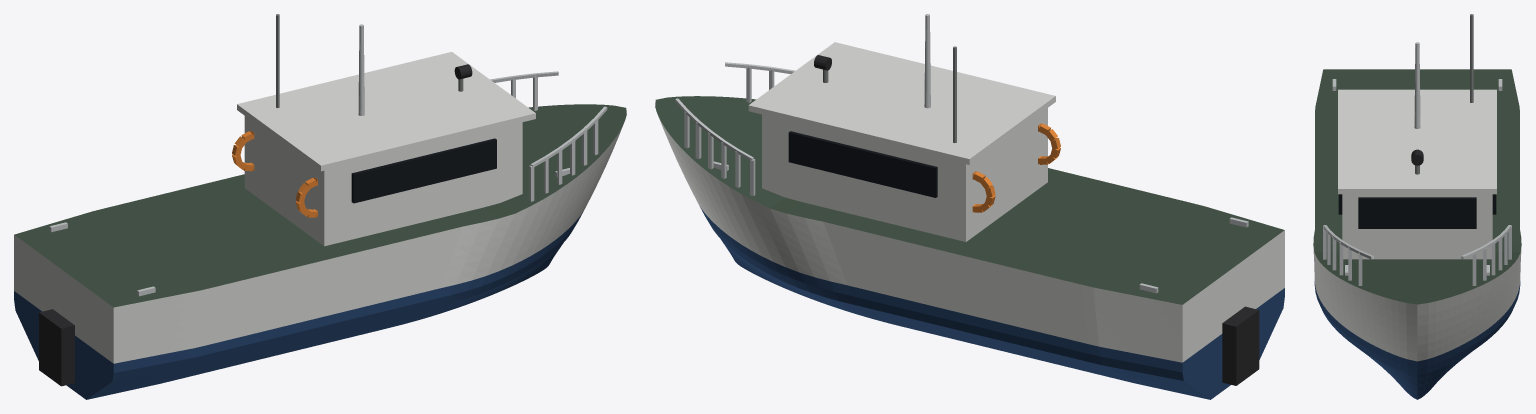
The model's file is launch10.glb.
3 renders of one model, left to right at view 1: azimuth 30°, elevation 25°; view 2: azimuth 150°, elevation 25°; view 3: azimuth 270°, elevation 25°, orthographic. The views are drawn at different scales.
Parts seen in each view (by area): view 1: launch10; view 2: launch10; view 3: launch10.
Part boxes in pixels (bbox=[...]): launch10: bbox=[14, 14, 626, 399]; launch10: bbox=[655, 14, 1284, 399]; launch10: bbox=[1313, 14, 1521, 399].
Size of the model in its own units: 10.45 by 5 by 3.45.
